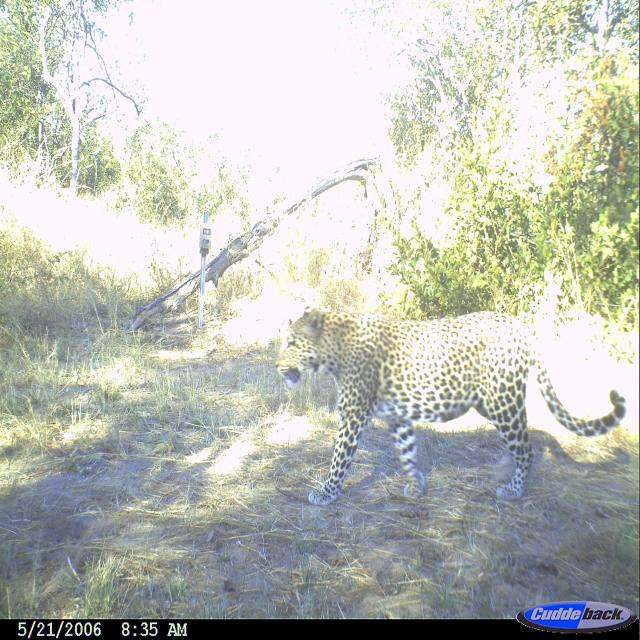Leopard: (265, 279, 640, 519)
